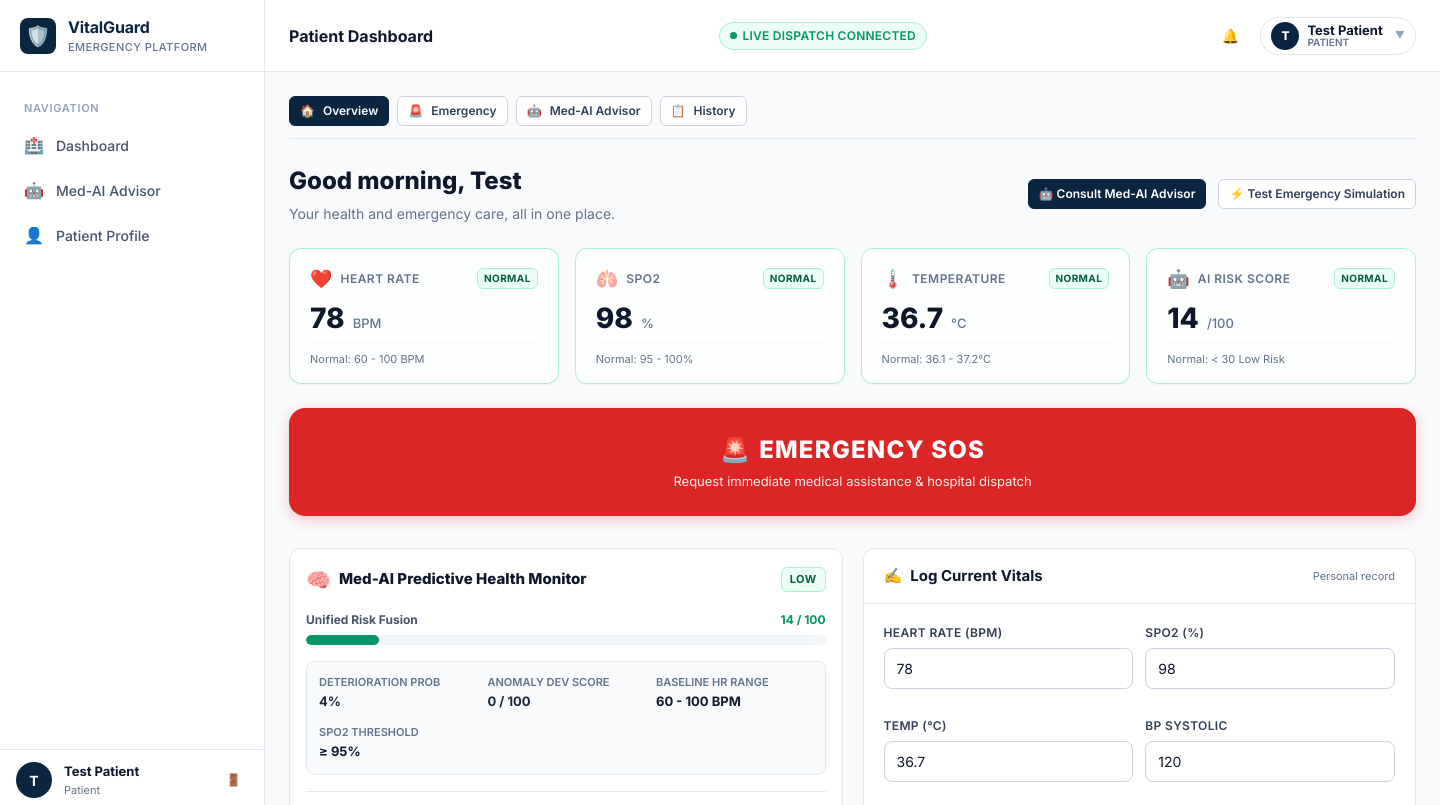
Test: queue response regression › renders patient history for queue null
Click the button "📋 History" at point(703, 111), box [660,96,747,126]
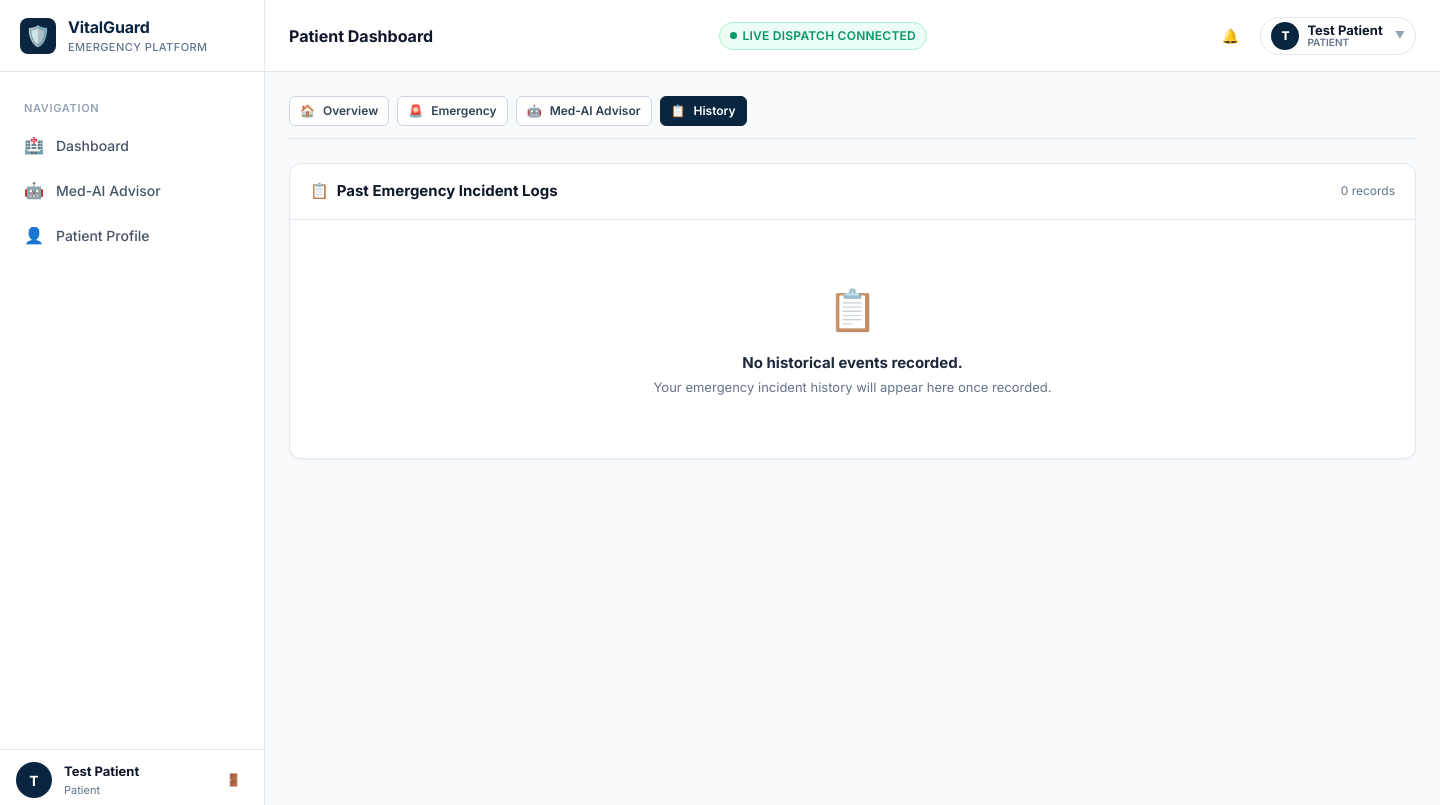
Check: the text "No historical events recorded." is shown, box [742,352,963,372]
